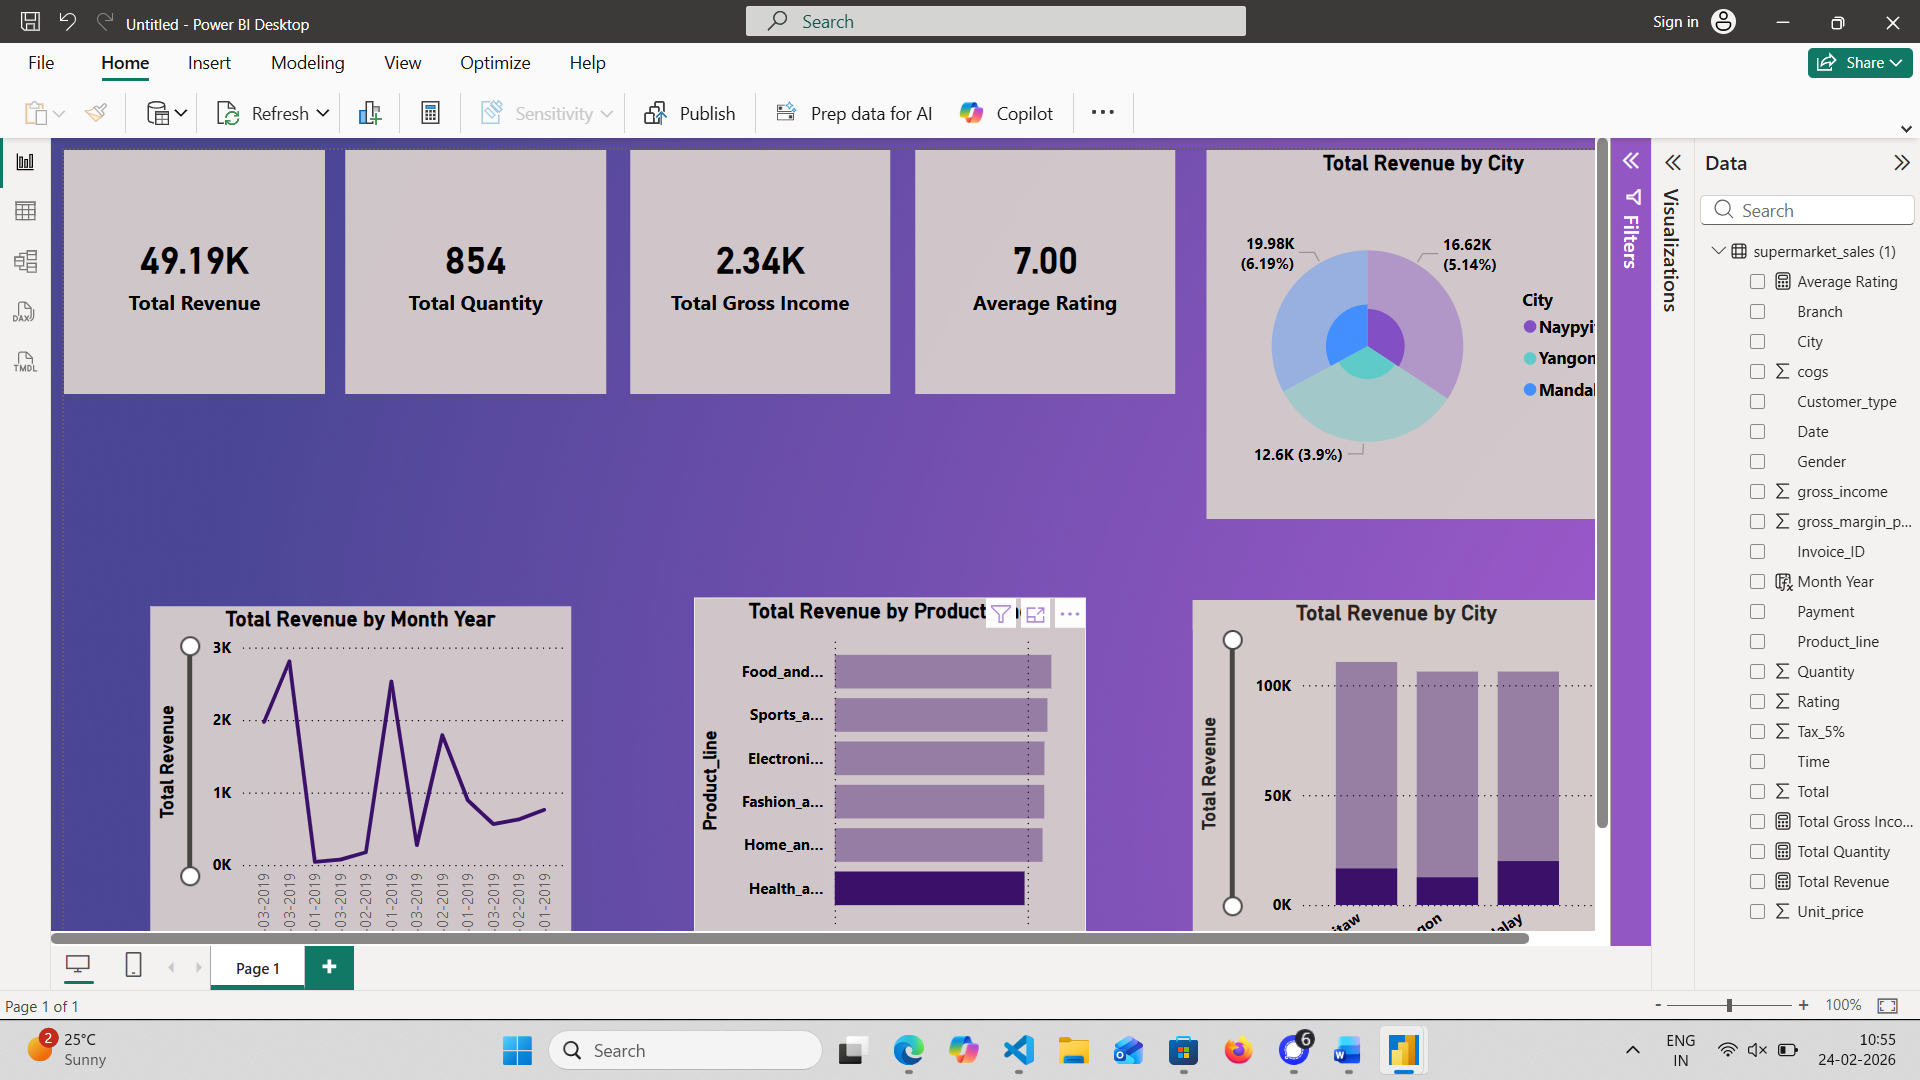

The page's visual inventory and layout, read from the dashboard file:
{"tool":"powerbi","page":{"name":"Page 1","canvas":[1280,720],"ordinal":0},"visuals":[{"type":"card","fields":{"Values":["supermarket_sales (1).Total Revenue"]},"box":[0,0,208.6,194.9],"z":0},{"type":"card","fields":{"Values":["supermarket_sales (1).Total Quantity"]},"box":[225,0,208.6,194.9],"z":1000},{"type":"card","fields":{"Values":["supermarket_sales (1).Total Gross Income"]},"box":[452.8,0,208.6,194.9],"z":2000},{"type":"card","fields":{"Values":["supermarket_sales (1).Average Rating"]},"box":[680.6,0,208.6,194.9],"z":3000},{"type":"lineChart","fields":{"Category":["supermarket_sales (1).Month Year"],"Y":["supermarket_sales (1).Total Revenue"]},"box":[68.6,365,337.6,312.9],"z":4000},{"type":"clusteredBarChart","fields":{"Category":["supermarket_sales (1).Product_line"],"Y":["supermarket_sales (1).Total Revenue"]},"box":[503.6,358.1,314.2,326.6],"z":5000},{"type":"columnChart","fields":{"Category":["supermarket_sales (1).City"],"Y":["supermarket_sales (1).Total Revenue"]},"box":[902.9,359.5,326.6,325.2],"z":5002},{"type":"pieChart","fields":{"Y":["supermarket_sales (1).Total Revenue"],"Category":["supermarket_sales (1).City"]},"box":[913.9,0,348.5,295],"z":5003}]}

Visuals, with their boxes on the page's 1280x720 design canvas (x1, y1, x2, y2). These are canvas units, not pixel positions in the 1920x1080 screenshot, which may show the page scaled, cropped or inside an application window:
card - supermarket_sales (1).Total Revenue: (left=0, top=0, right=209, bottom=195)
card - supermarket_sales (1).Total Quantity: (left=225, top=0, right=434, bottom=195)
card - supermarket_sales (1).Total Gross Income: (left=453, top=0, right=661, bottom=195)
card - supermarket_sales (1).Average Rating: (left=681, top=0, right=889, bottom=195)
lineChart - supermarket_sales (1).Month Year x supermarket_sales (1).Total Revenue: (left=69, top=365, right=406, bottom=678)
clusteredBarChart - supermarket_sales (1).Product_line x supermarket_sales (1).Total Revenue: (left=504, top=358, right=818, bottom=685)
columnChart - supermarket_sales (1).City x supermarket_sales (1).Total Revenue: (left=903, top=360, right=1230, bottom=685)
pieChart - supermarket_sales (1).Total Revenue x supermarket_sales (1).City: (left=914, top=0, right=1262, bottom=295)
